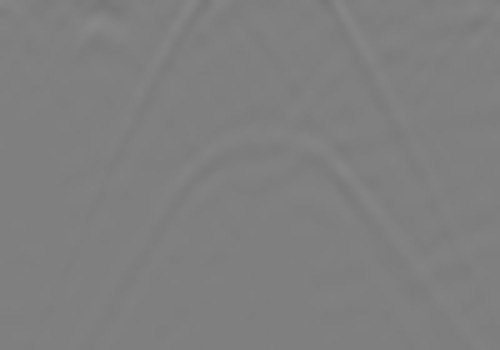hyperbola: (95, 128, 439, 325)
